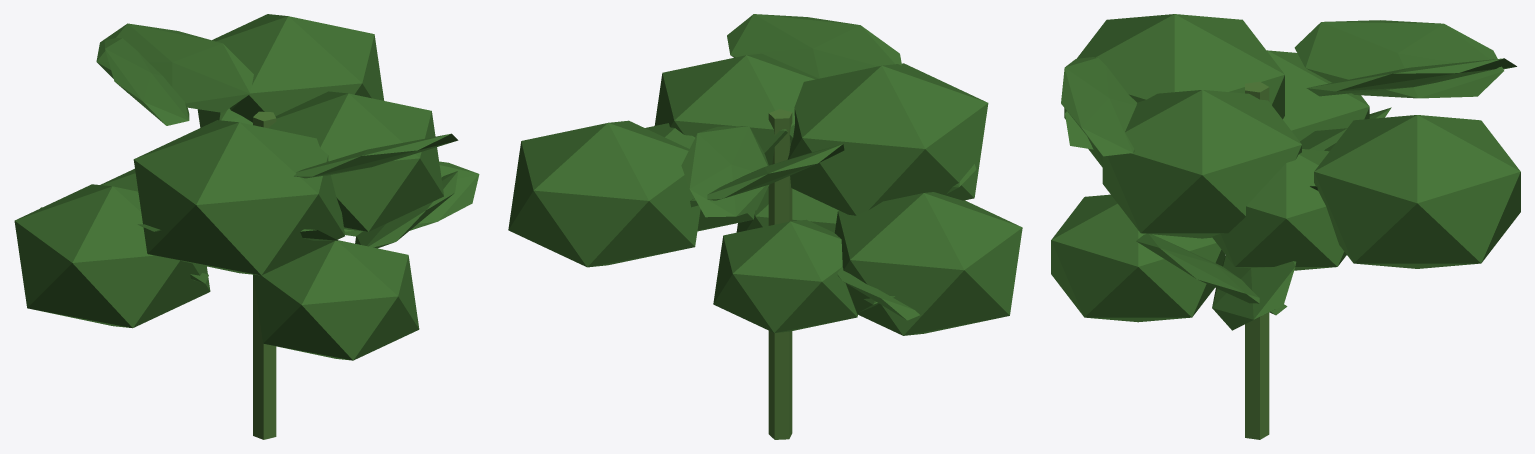
Rendered from ekin_patlican_y.glb.
The picture shows the model from 3 angles, left to right: view 1: azimuth 30°, elevation 25°; view 2: azimuth 150°, elevation 25°; view 3: azimuth 270°, elevation 25°; orthographic projection. The views are drawn at different scales.
Visible parts, largest first — view 1: Cali; view 2: Cali; view 3: Cali.
Boxes of the visible parts, left/top/right/bottom form: Cali: left=14, top=14, right=479, bottom=439; Cali: left=508, top=14, right=1022, bottom=439; Cali: left=1051, top=14, right=1520, bottom=439.
Size of the model in its own units: 0.249 by 0.1894 by 0.2083.
